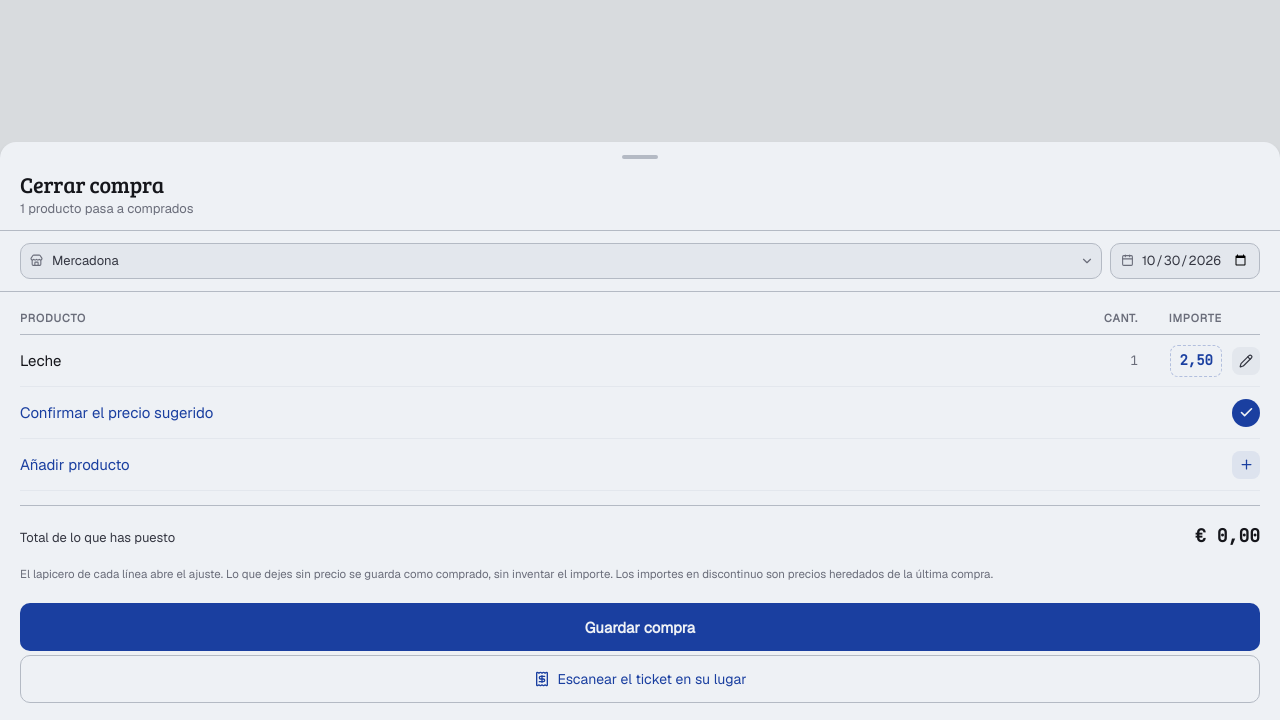
Test: «Confirmar los precios sugeridos» applies the inherited price
expect the text "Confirmar el precio sugerido" is shown: met, box [20,403,213,422]
Click the button "Confirmar el precio sugerido" at (54, 413), box [20,387,1260,439]
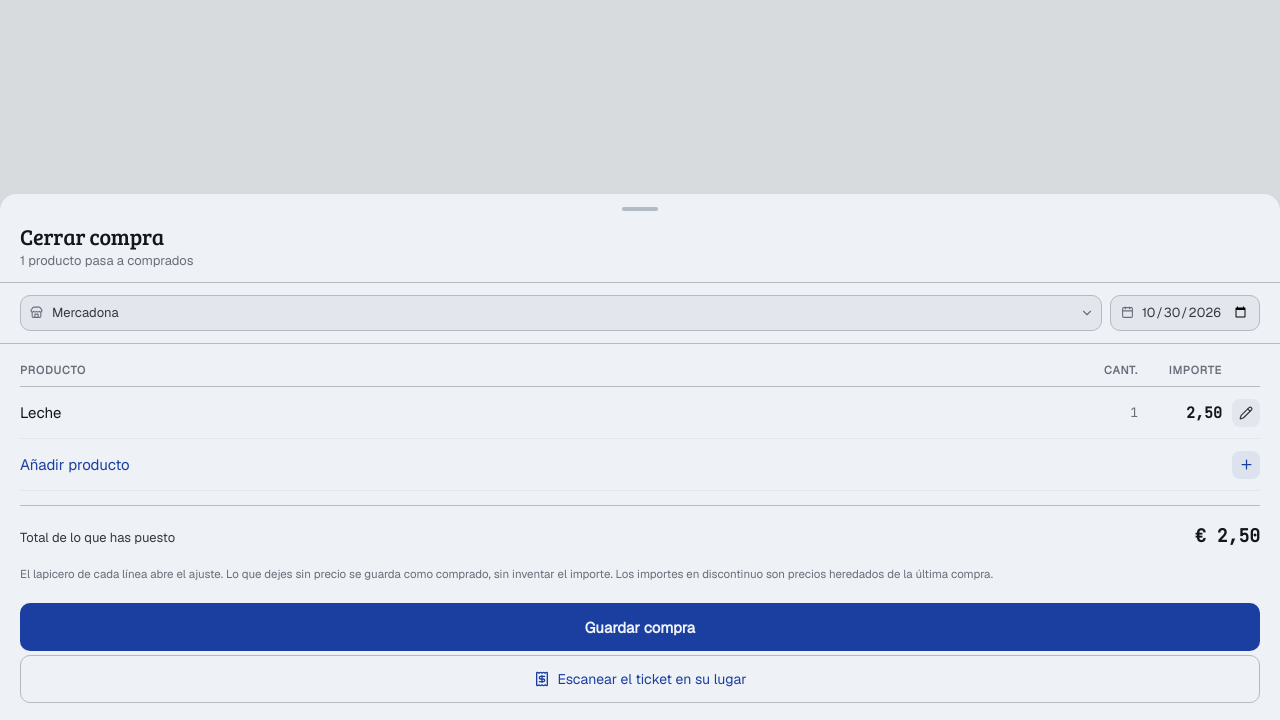
expect the text "€ 2,50" is shown: met, box [1195,522,1260,549]
expect the button "(precio sugerido)" is gone: met
